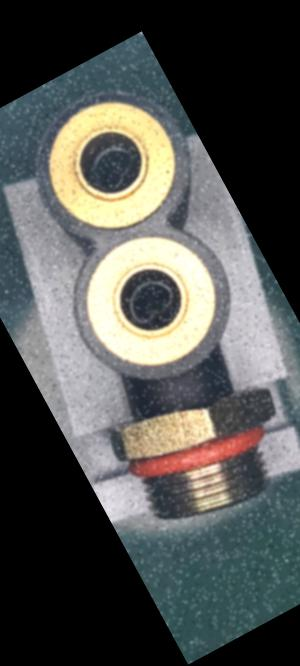joint line: (171, 379, 197, 415)
off-centered: (113, 262, 191, 339), (74, 131, 152, 204)
